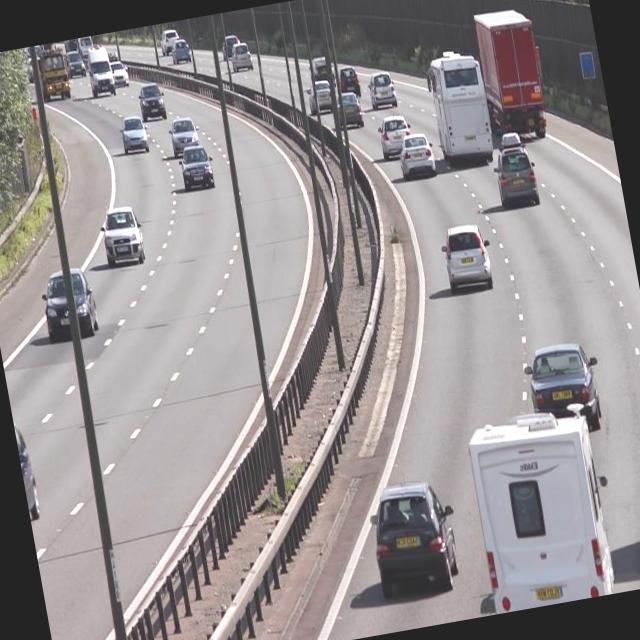bus: (424, 47, 499, 171)
car: (368, 476, 472, 602), (523, 338, 609, 436), (37, 266, 102, 346), (438, 220, 498, 296), (96, 200, 150, 270), (492, 140, 544, 210), (396, 132, 439, 181), (374, 110, 416, 156), (134, 80, 170, 122), (118, 113, 152, 155), (302, 76, 338, 115), (366, 68, 398, 110), (334, 62, 366, 102), (304, 54, 338, 90), (167, 115, 200, 152), (180, 162, 214, 194), (338, 90, 365, 130), (226, 42, 255, 72), (63, 46, 87, 80), (166, 37, 193, 66), (158, 28, 182, 54), (218, 32, 242, 58), (108, 61, 130, 87)
truck: (458, 402, 624, 615), (473, 6, 555, 149), (80, 40, 119, 101), (38, 48, 74, 102)
